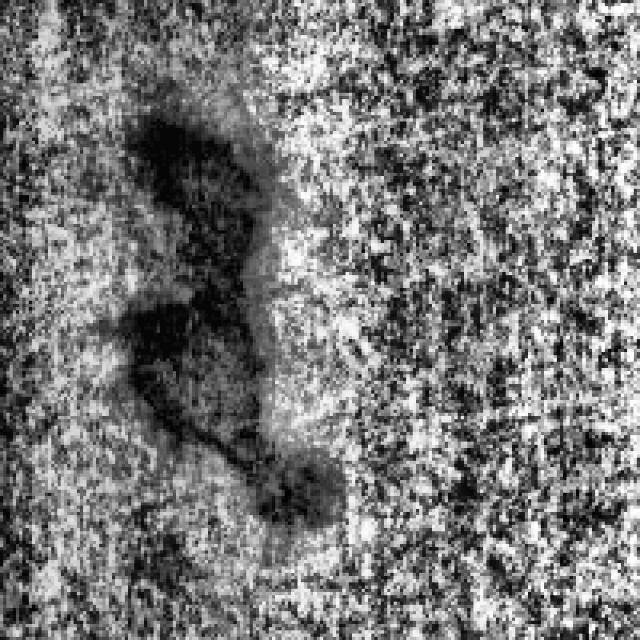Scratches: (96, 73, 256, 454), (202, 400, 342, 538)
